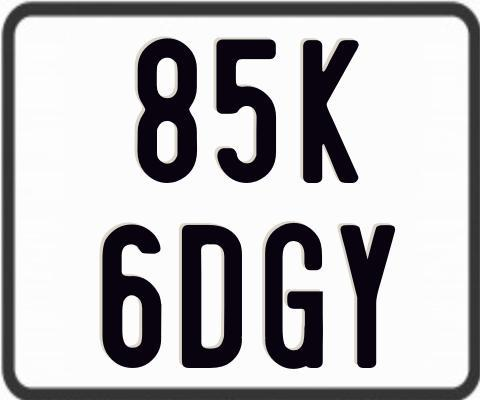5: (213, 36, 279, 180)
6: (101, 223, 160, 372)
8: (136, 36, 199, 183)
D: (181, 222, 242, 365)
G: (264, 223, 322, 374)
K: (301, 39, 359, 185)
Y: (337, 222, 395, 365)
